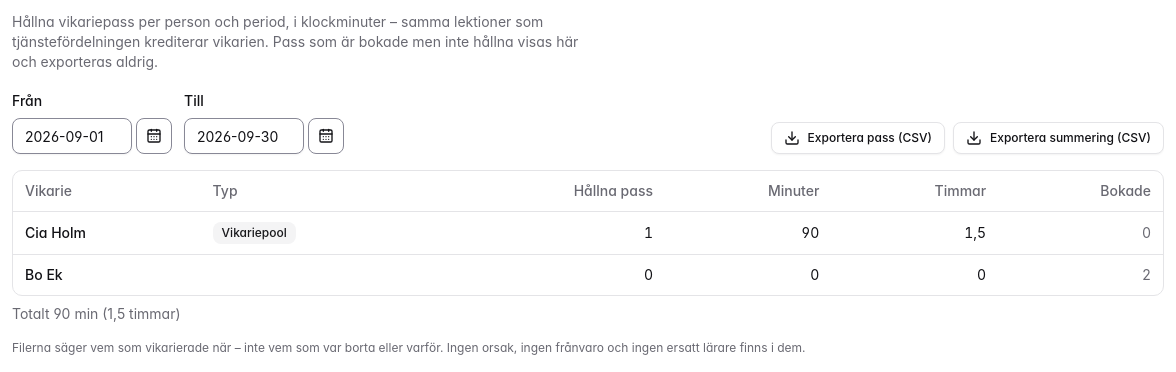
Scenario: Vikarietimmar › refuses a period longer than the gateway's 93 days before asking it
The width and height of the screenshot is (1176, 372).
Check: the text "Cia Holm" is shown, box [13, 212, 201, 254]
Replace the text in the field labelled "Från" with "2026-01-01" at (72, 136), box [12, 118, 132, 154]
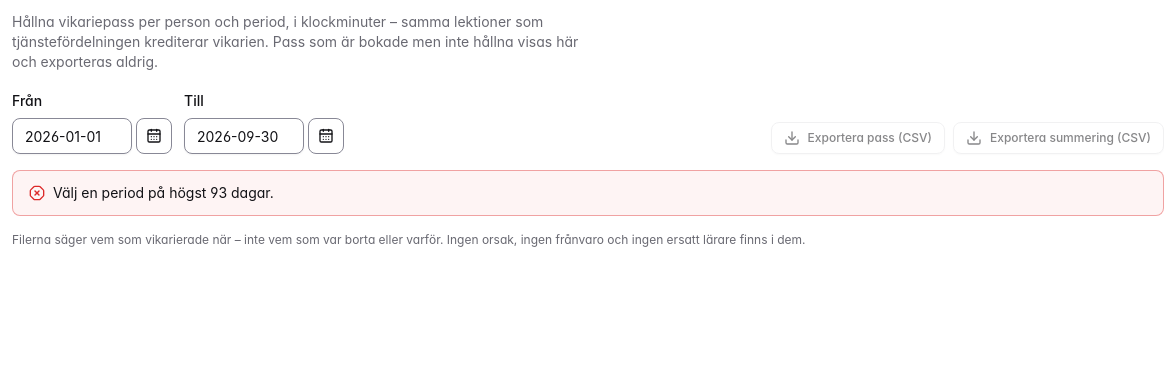
Check: the message reads "Välj en period på högst 93 dagar.", box [53, 184, 274, 201]
